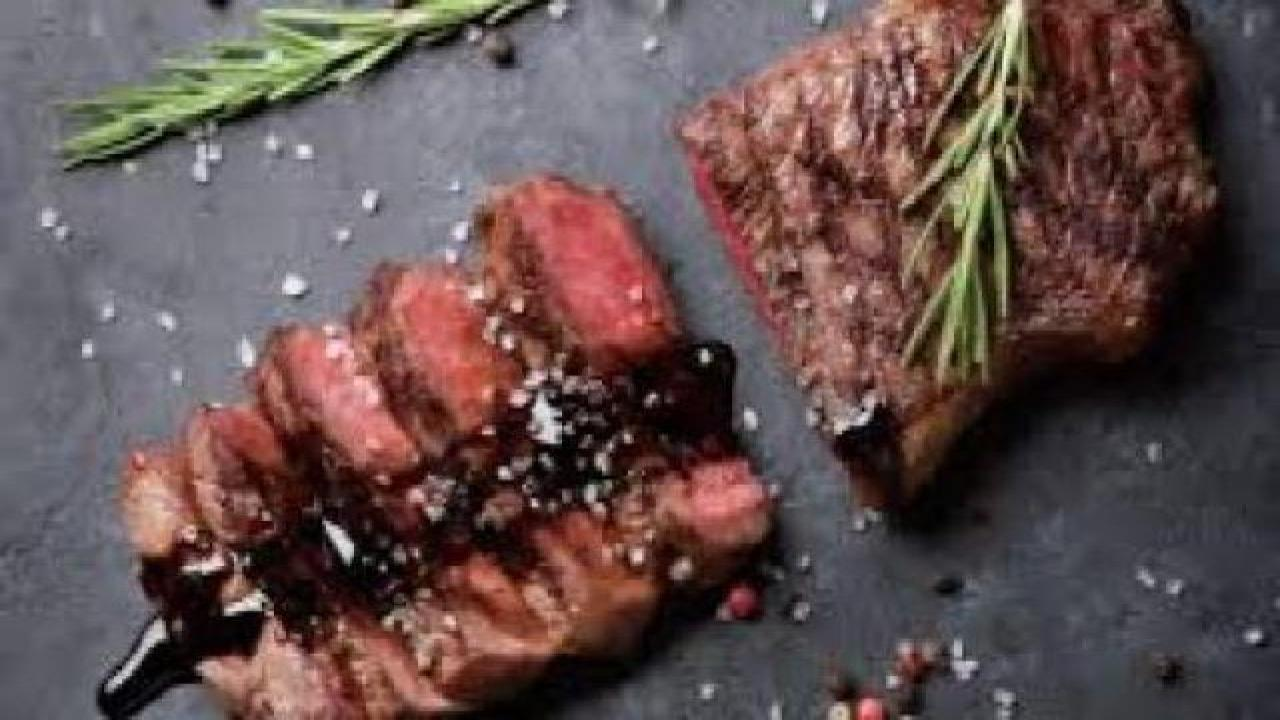Carne: (150, 177, 726, 715), (637, 10, 1211, 419)
